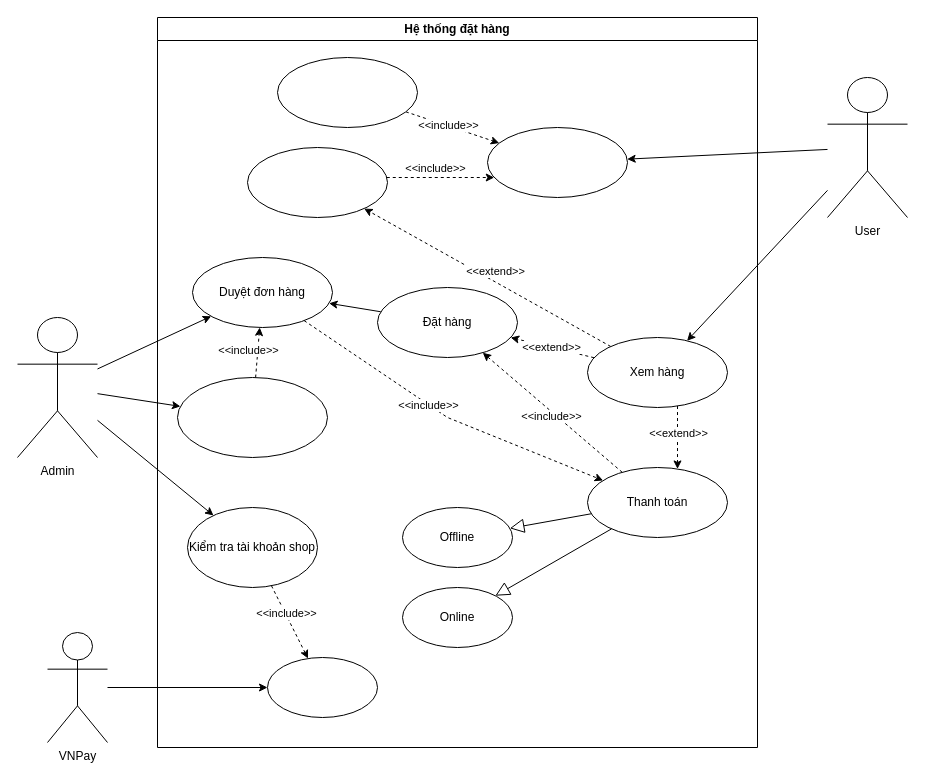
The diagram is 925 pixels wide and 781 high, and some of its shapes have lost their labels. The box of each missing label's shape, as (x1, y1, x2, y2) in pixels:
Duyệt giao dịch VNPay: (266, 656, 378, 718)
Gửi đơn hàng và cập nhật trạng thái: (176, 376, 328, 458)
Thêm đơn hàng vào giỏ: (246, 146, 388, 218)
Xem giỏ hàng: (486, 126, 628, 198)
Xoá đơn hàng trong giỏ: (276, 56, 418, 128)
